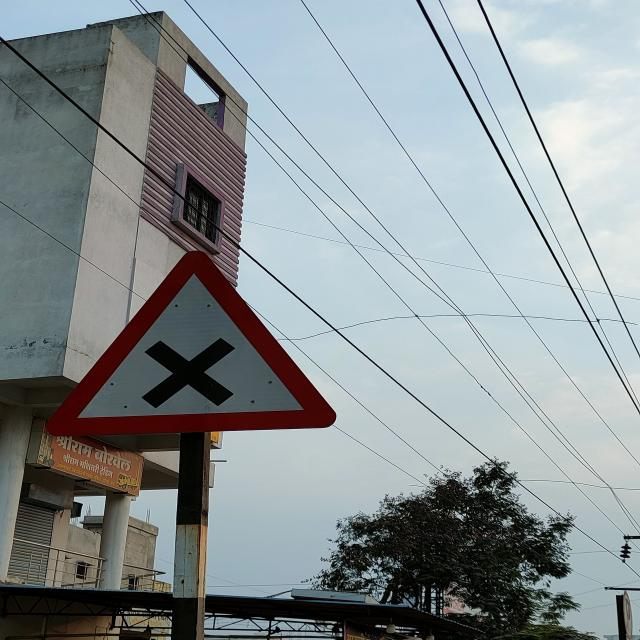cross_road: (45, 248, 338, 438)
